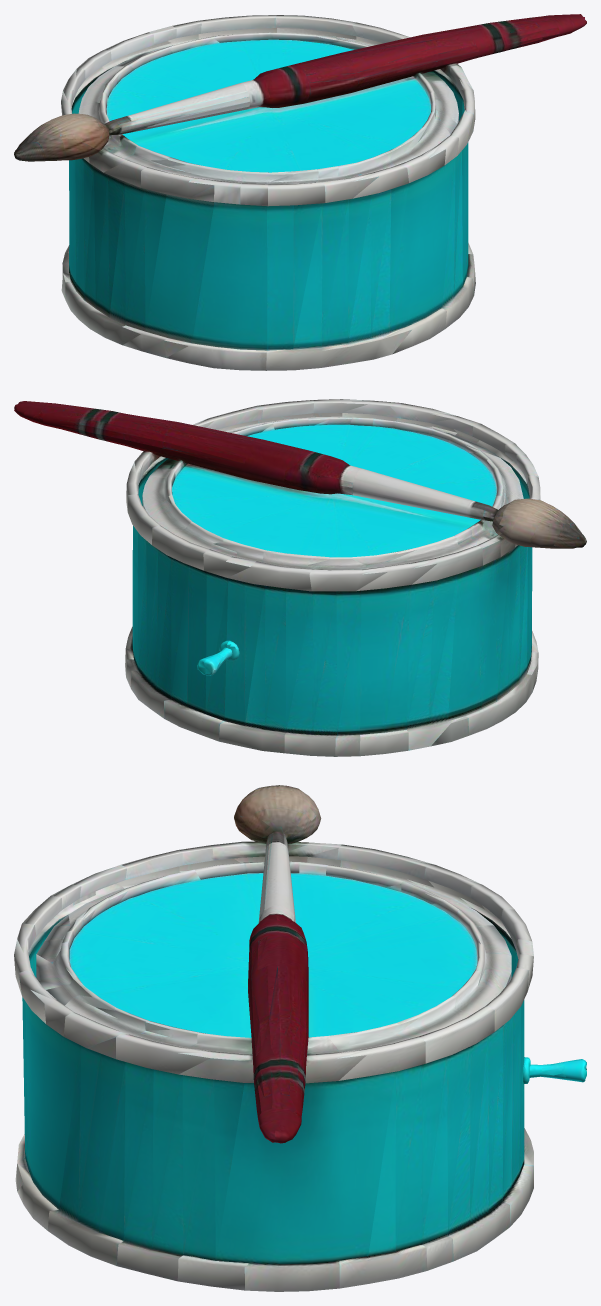
File: glaze_brush.glb
3 views of the same model, one above another, from view 1: azimuth 30°, elevation 25°; view 2: azimuth 150°, elevation 25°; view 3: azimuth 270°, elevation 25° (orthographic). The views are drawn at different scales.
Size of the model in its own units: 1 by 0.3594 by 0.6973.
1 material, 1 textured.
